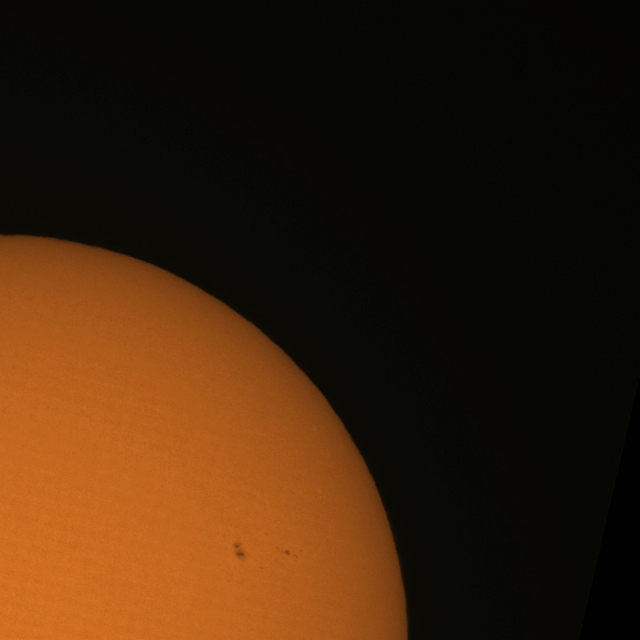sunspot: (275, 546, 302, 562), (232, 542, 246, 562)
